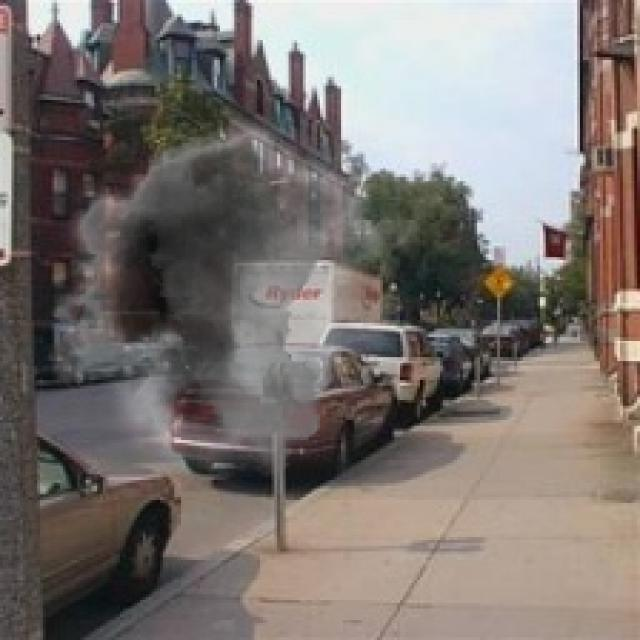smoke: (31, 103, 426, 477)
